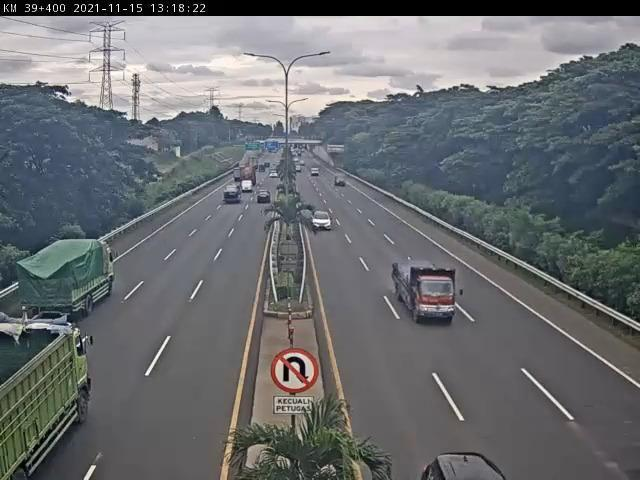car: (312, 210, 335, 233)
truck: (1, 319, 91, 480), (19, 241, 116, 318), (393, 257, 458, 326)
